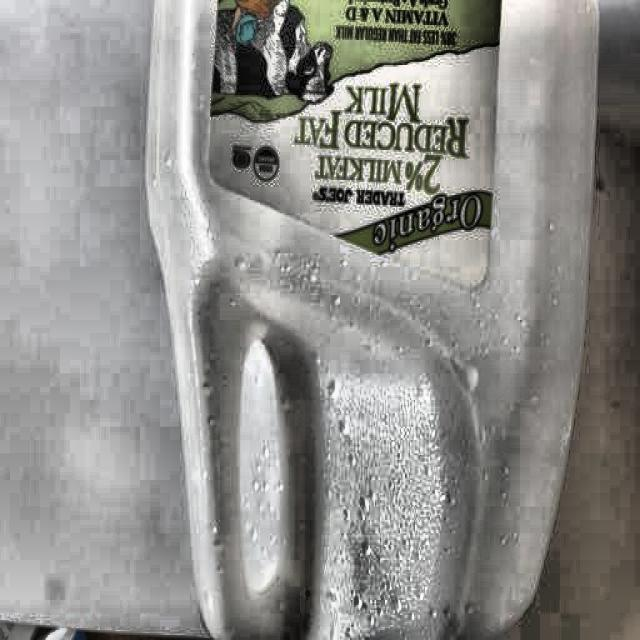plastic: (145, 7, 602, 631)
